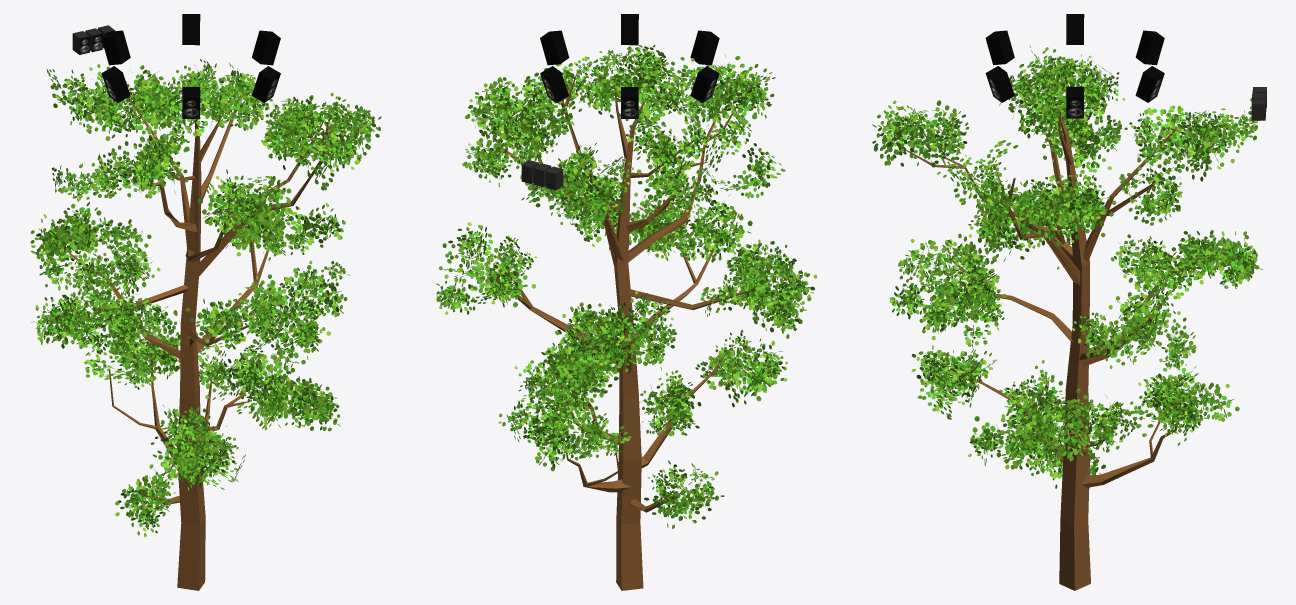
File: tree_dcl.glb
3 views of the same model, side by side, from view 1: azimuth 30°, elevation 25°; view 2: azimuth 150°, elevation 25°; view 3: azimuth 270°, elevation 25° (orthographic).
Visible parts, largest first — view 1: Leafs, tree, Cube.009_Baked.003_Baked; view 2: Leafs, tree, Cube.009_Baked.003_Baked; view 3: Leafs, tree, Cube.009_Baked.003_Baked.
Boxes of the visible parts, <box> form: Leafs: <box>30,59,381,537</box>; tree: <box>70,87,328,590</box>; Cube.009_Baked.003_Baked: <box>101,14,280,118</box>; Leafs: <box>436,45,817,528</box>; tree: <box>493,70,749,590</box>; Cube.009_Baked.003_Baked: <box>540,14,719,118</box>; Leafs: <box>872,45,1262,488</box>; tree: <box>905,102,1198,590</box>; Cube.009_Baked.003_Baked: <box>985,14,1164,118</box>.
Size of what is drawn, in the model's own units: 14.18 by 20.09 by 14.47.
Materials: 3 (2 with a texture image).
